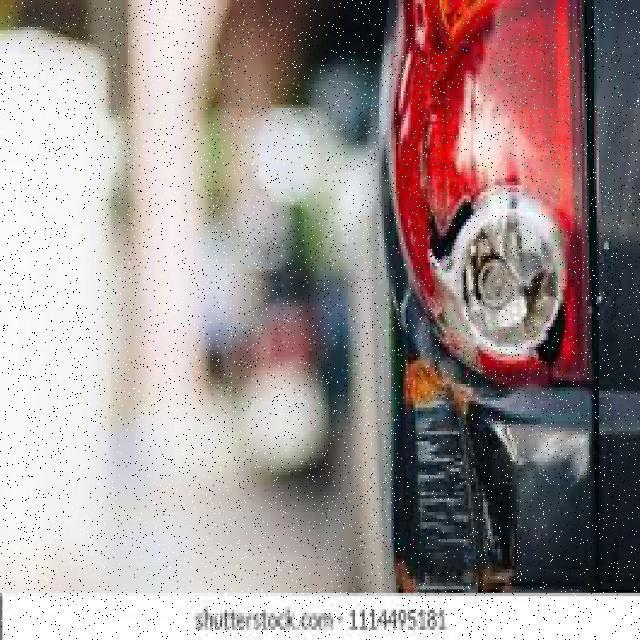door: (392, 0, 614, 596)
